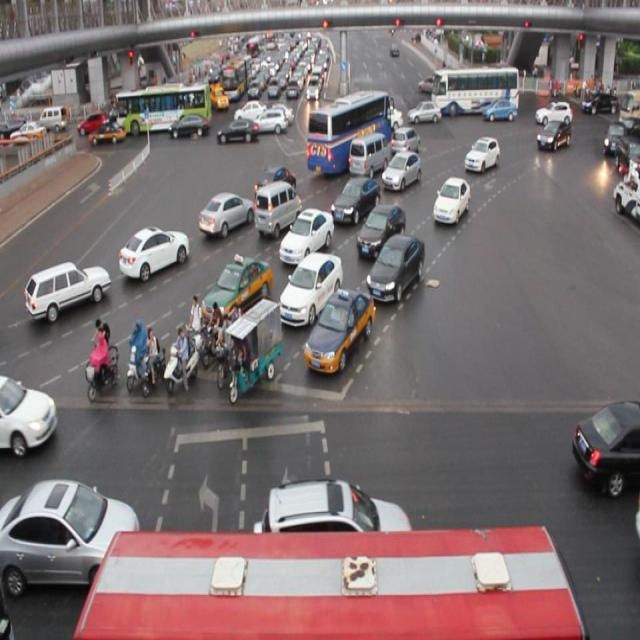car: (1, 480, 142, 591), (256, 478, 413, 556), (570, 396, 640, 496), (302, 289, 374, 376), (200, 252, 273, 337), (25, 261, 109, 323), (1, 372, 57, 461), (278, 250, 342, 326), (364, 230, 425, 305), (119, 226, 190, 278), (279, 209, 334, 265), (329, 176, 380, 227), (357, 207, 405, 258), (199, 190, 254, 233), (431, 176, 469, 227), (253, 167, 297, 206), (382, 150, 421, 190), (464, 136, 499, 173), (535, 120, 569, 150), (390, 127, 420, 156)
truck: (254, 182, 302, 236), (340, 138, 383, 183)
van: (73, 524, 586, 640), (306, 90, 392, 174)
